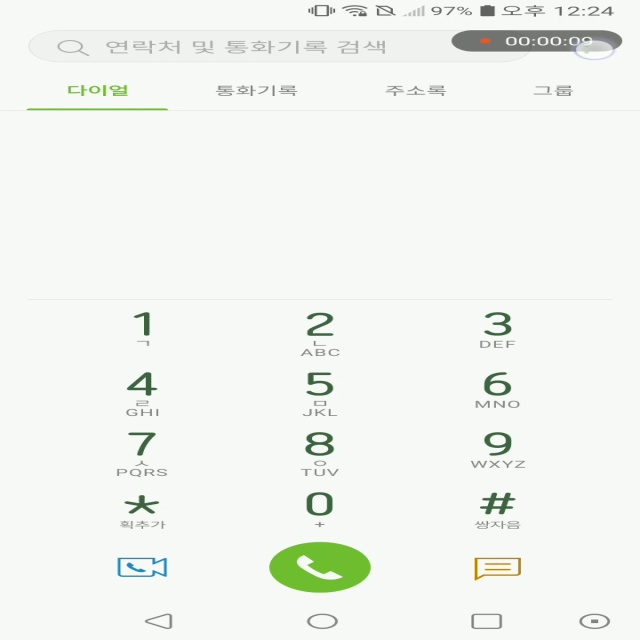Cursor: (572, 39, 616, 62)
